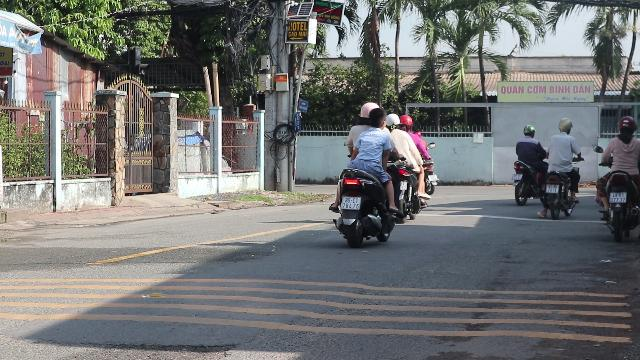helmet: (617, 115, 637, 136), (359, 103, 378, 118)
licenseplate: (342, 196, 361, 210), (610, 192, 626, 202)
motorcyclist: (328, 100, 398, 248), (594, 115, 640, 239)
nohelmet: (367, 109, 385, 129)
